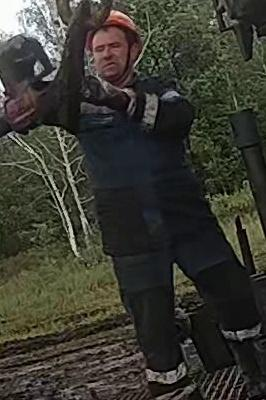gloves: (75, 74, 148, 118)
helmet: (84, 11, 145, 59)
vest: (76, 74, 198, 244)
